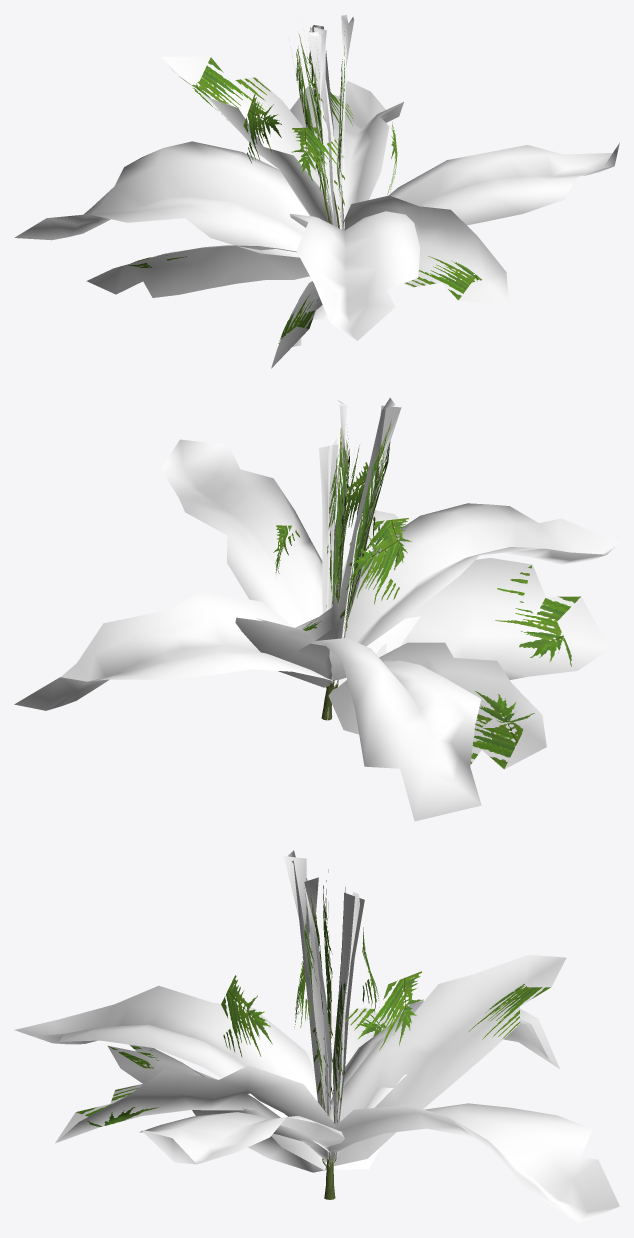
Rendered from cinnamon_fern.glb.
3 renders of one model, top to bottom at view 1: azimuth 30°, elevation 25°; view 2: azimuth 150°, elevation 25°; view 3: azimuth 270°, elevation 25°, orthographic. The views are drawn at different scales.
Visible parts, largest first — view 1: cinnamon_fern; view 2: cinnamon_fern; view 3: cinnamon_fern.
Boxes of the visible parts, bbox=[...] form: cinnamon_fern: bbox=[14, 14, 619, 368]; cinnamon_fern: bbox=[14, 397, 619, 821]; cinnamon_fern: bbox=[14, 850, 619, 1223].
Size of the model in its own units: 2.22 by 1.37 by 2.33.
Materials: 3 (2 with a texture image).
